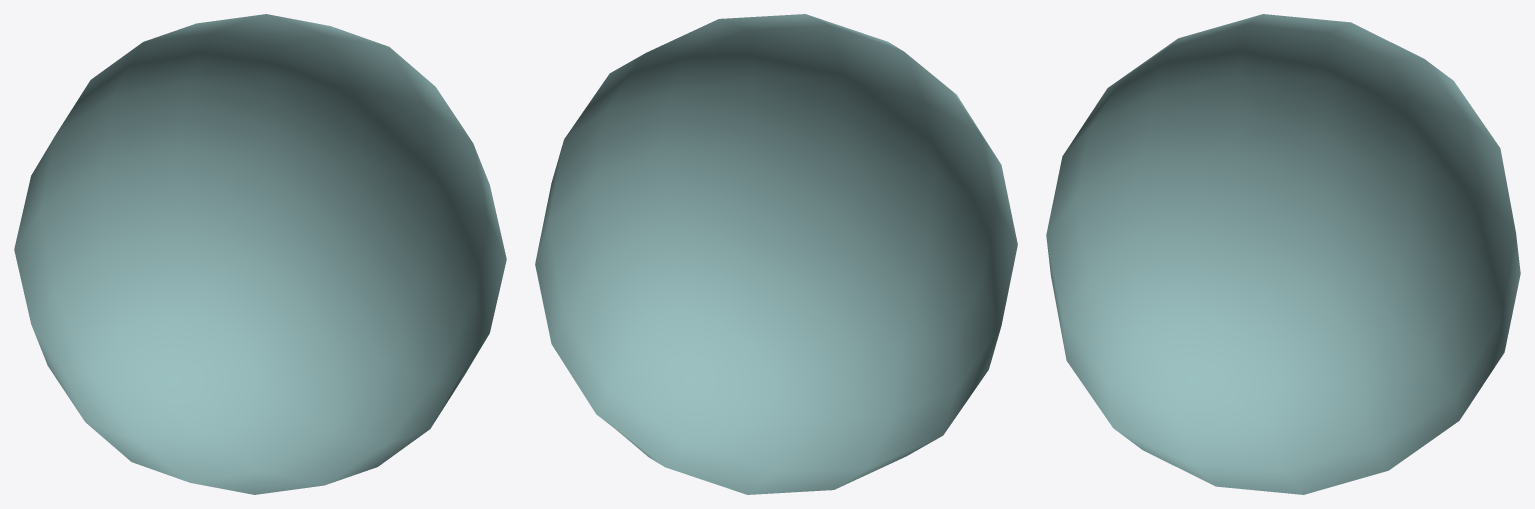
The model's file is cielo.gltf.
The picture shows the model from 3 angles, left to right: view 1: azimuth 30°, elevation 25°; view 2: azimuth 150°, elevation 25°; view 3: azimuth 270°, elevation 25°; orthographic projection.
Parts seen in each view (by area): view 1: pCube2; view 2: pCube2; view 3: pCube2.
Boxes of the visible parts, left/top/right/bottom form: pCube2: left=14, top=14, right=506, bottom=494; pCube2: left=535, top=14, right=1017, bottom=494; pCube2: left=1046, top=14, right=1520, bottom=494.
Bounding box in the file's own units: 254 × 255 × 254.
